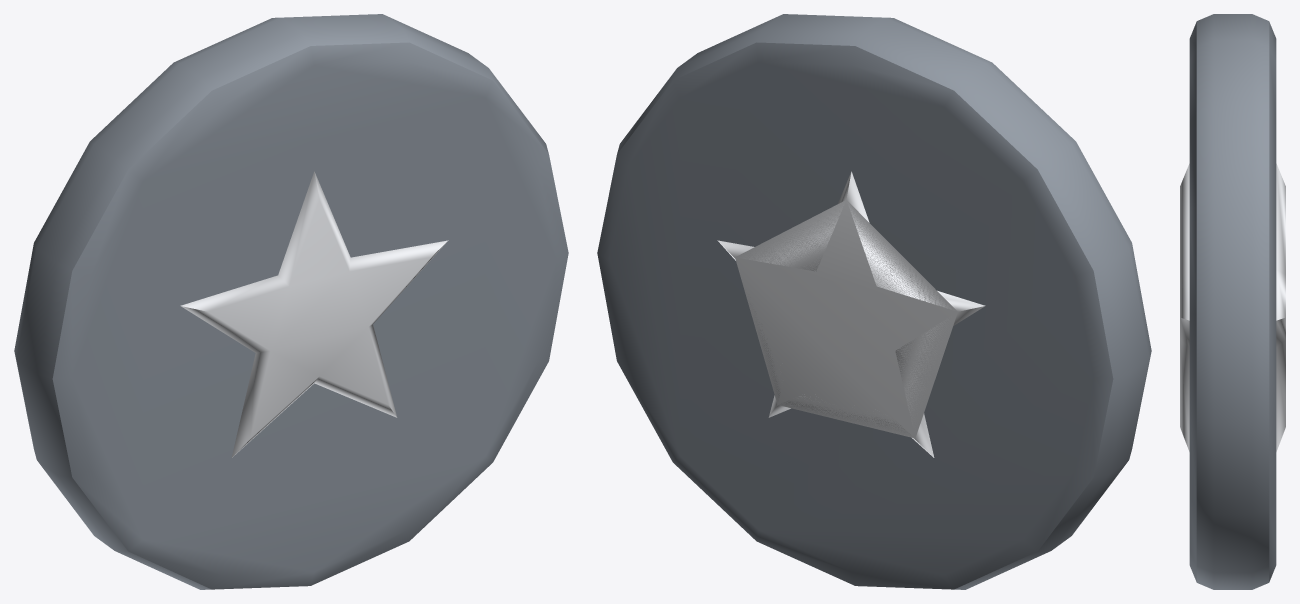
Rendered from SilverCoin.fbx.
3 views of the same model, side by side, from view 1: azimuth 30°, elevation 25°; view 2: azimuth 150°, elevation 25°; view 3: azimuth 270°, elevation 25° (orthographic). The views are drawn at different scales.
Parts seen in each view (by area): view 1: SilverCoin; view 2: SilverCoin; view 3: SilverCoin.
Part boxes in pixels (x1,y1,x2,y2): SilverCoin: (14,14,568,589); SilverCoin: (597,14,1151,589); SilverCoin: (1180,14,1285,589).
Size of the model in its own units: 1.2 by 1.2 by 0.22.
1 material, 1 textured.
